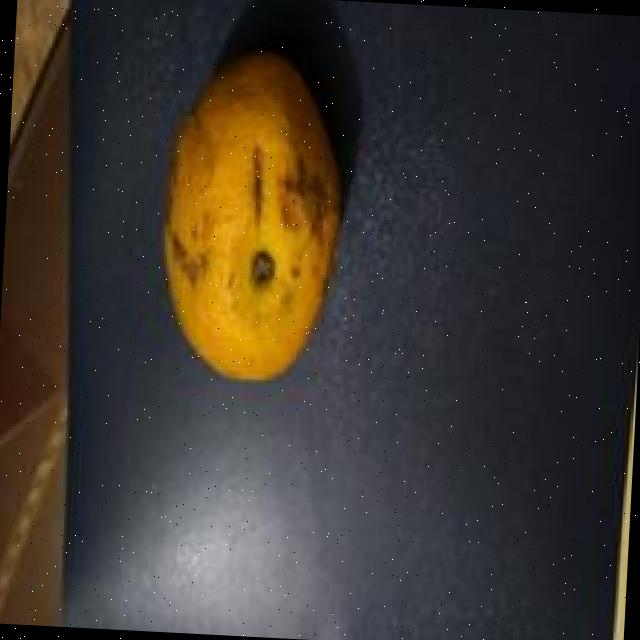overripe: (140, 47, 363, 394)
